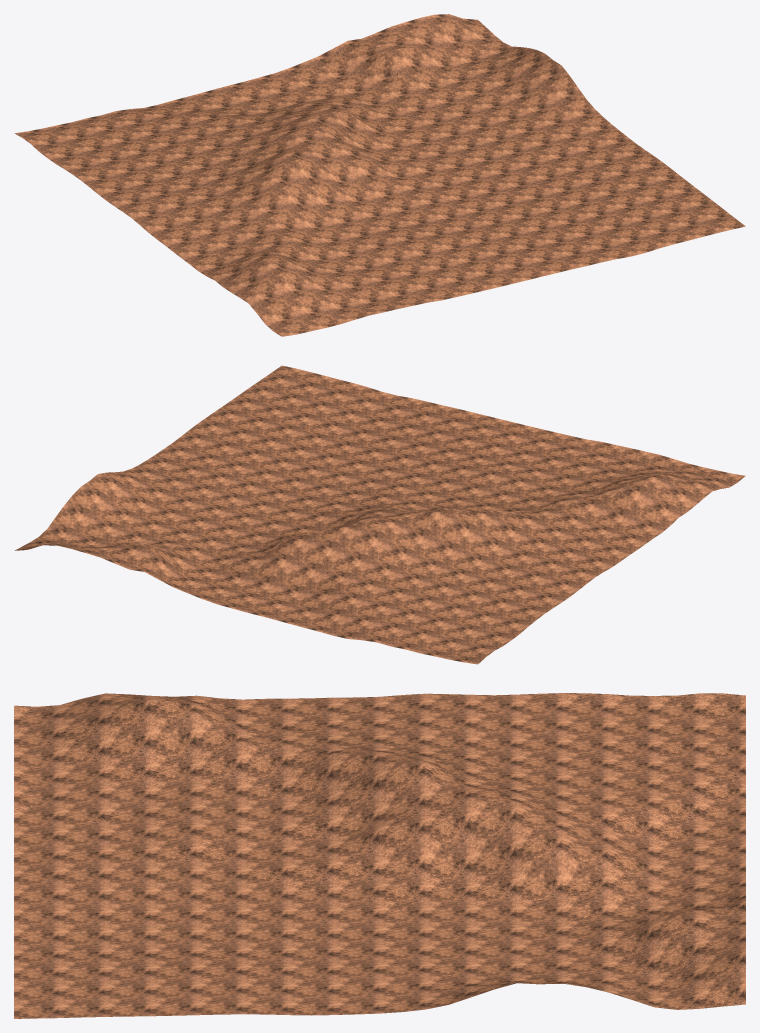
Rendered from terrain_04_08.dae.
3 renders of one model, top to bottom at view 1: azimuth 30°, elevation 25°; view 2: azimuth 150°, elevation 25°; view 3: azimuth 270°, elevation 25°, orthographic. The views are drawn at different scales.
Parts seen in each view (by area): view 1: terrain_04_08-node; view 2: terrain_04_08-node; view 3: terrain_04_08-node.
Part boxes in pixels (x1=…): terrain_04_08-node: x1=14, y1=14, x2=745, y2=336; terrain_04_08-node: x1=14, y1=365, x2=745, y2=664; terrain_04_08-node: x1=14, y1=693, x2=745, y2=1018.
Size of the model in its own units: 128 by 128 by 10.36.
Materials: 1 (1 with a texture image).
